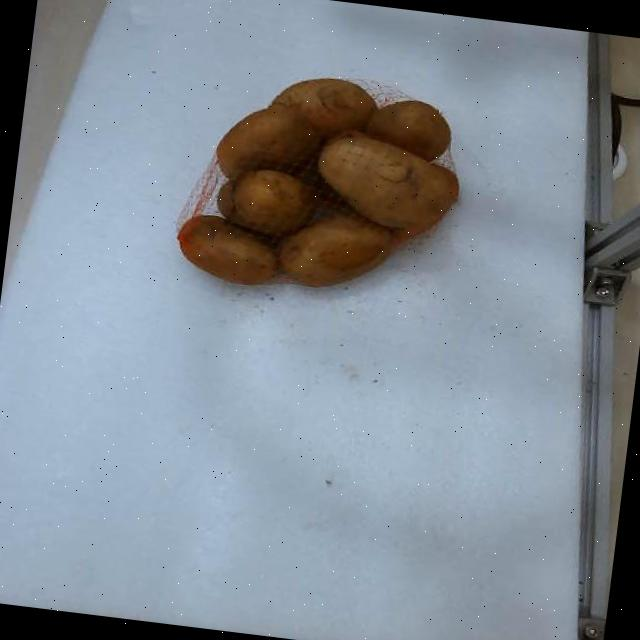potato: (318, 134, 457, 225), (279, 212, 395, 286), (216, 104, 320, 178), (177, 213, 279, 283), (271, 77, 375, 137), (219, 169, 314, 234), (365, 98, 450, 160)
